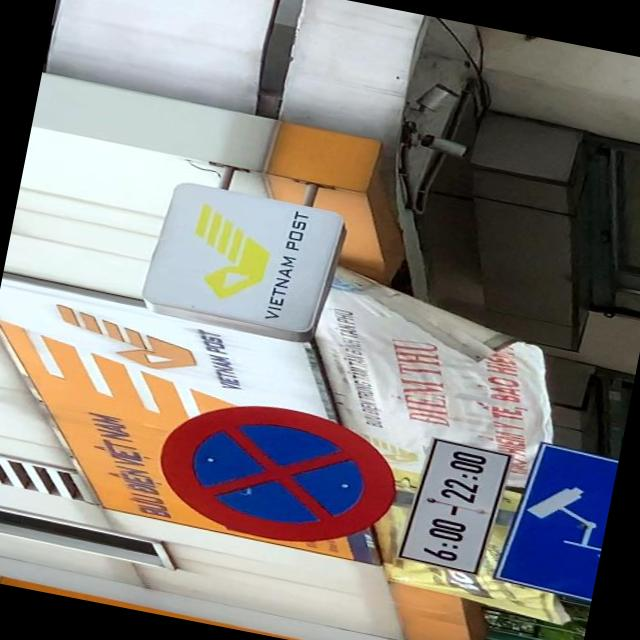P-130: (148, 386, 404, 560)
